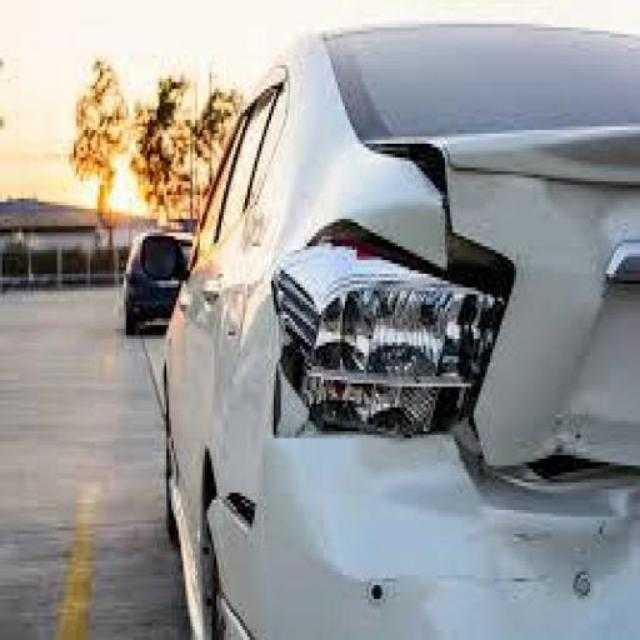dislocated part: (312, 145, 517, 305), (453, 425, 635, 518)
lamp broken: (268, 241, 505, 444)
no part: (369, 573, 386, 606)
scratch: (437, 575, 553, 596), (514, 528, 552, 540)
